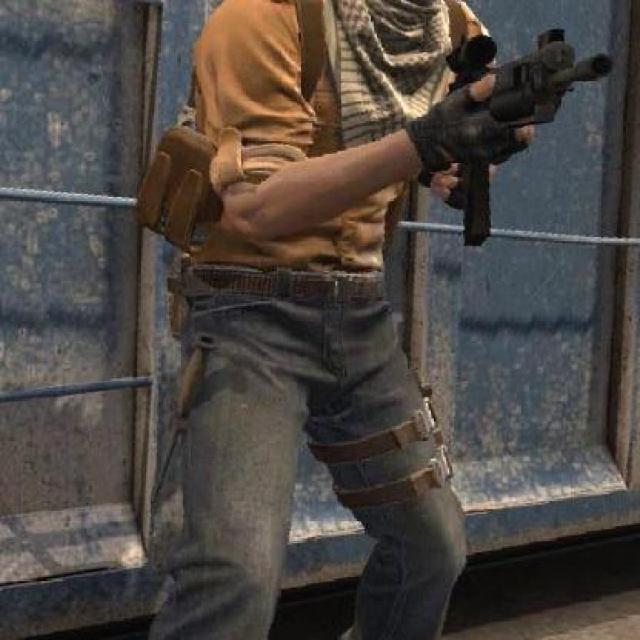T-Body: (118, 0, 516, 638)
